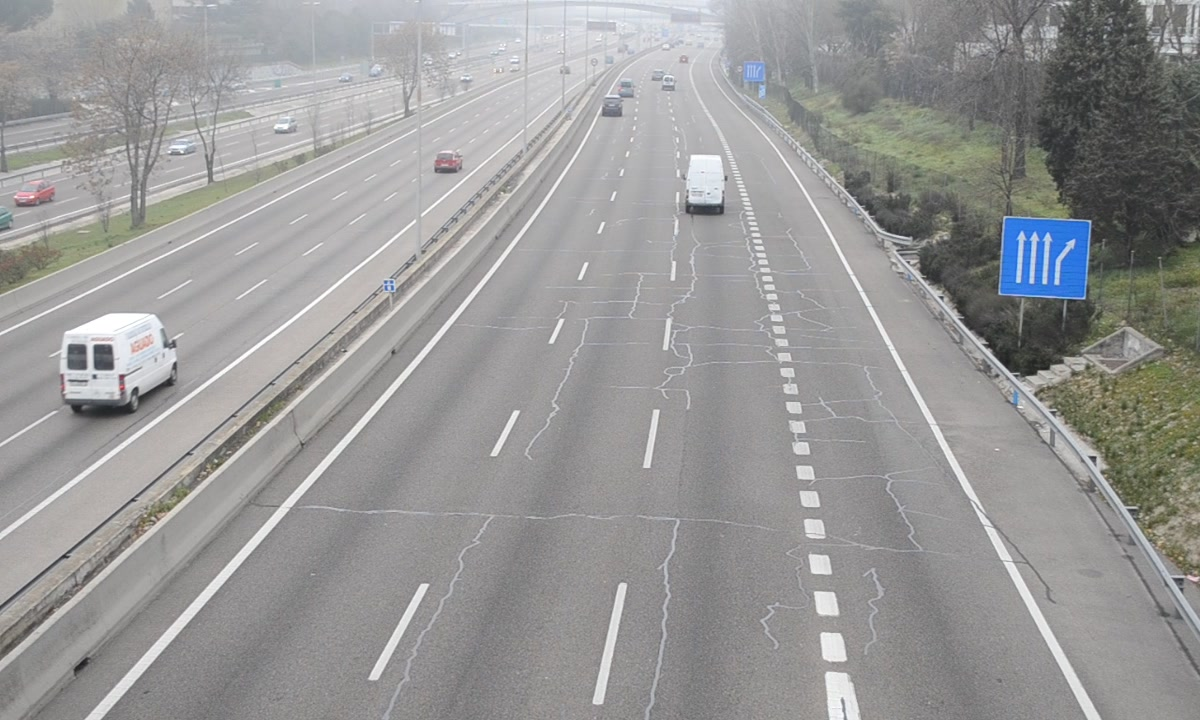car: (601, 95, 622, 117)
van: (684, 154, 727, 214)
